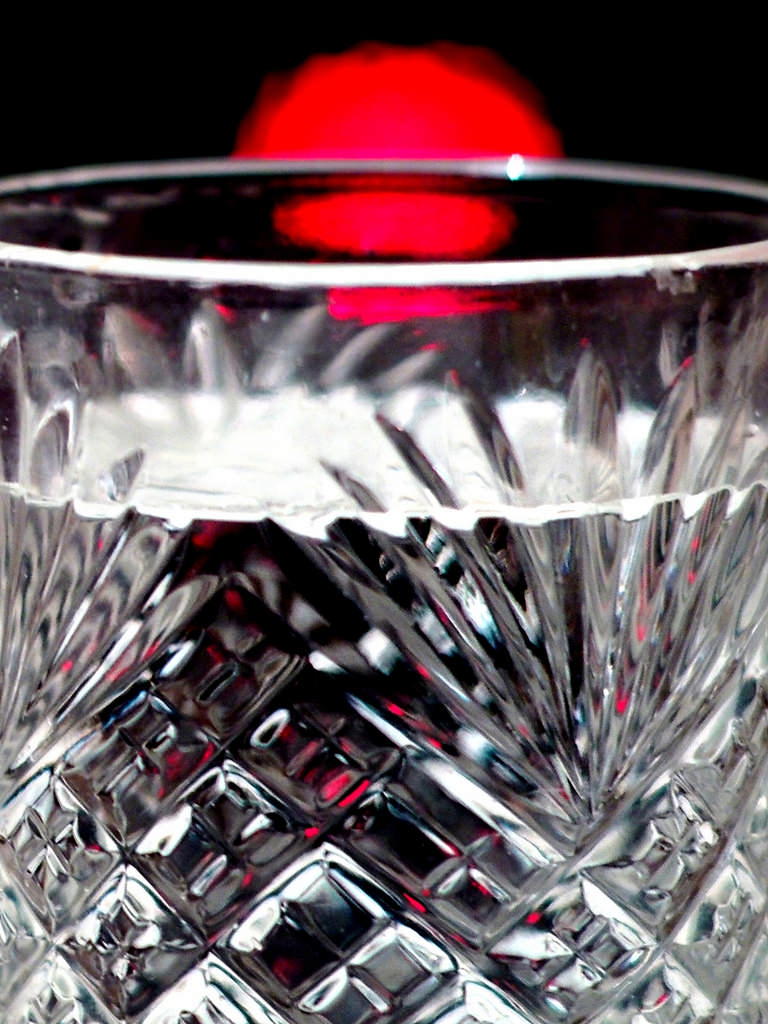glass of water: (16, 181, 749, 1024)
